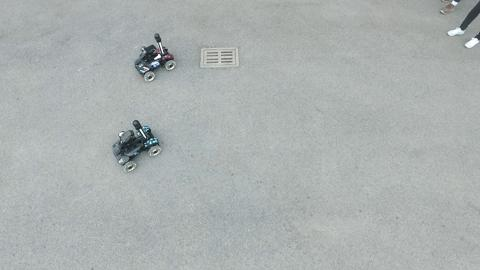chariot: (113, 120, 162, 169), (135, 34, 176, 82)
